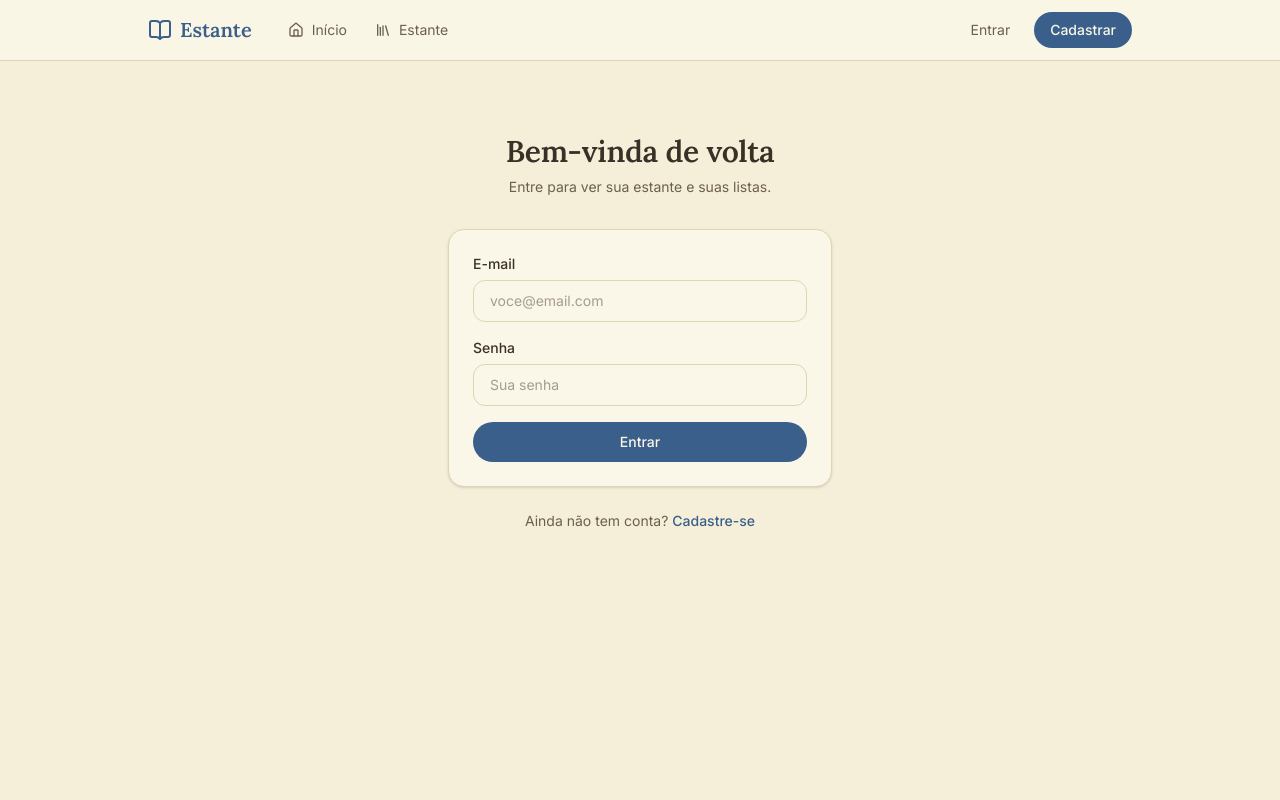
Test case: cadastro › é acessível pelo link da tela de login
Step 1. Click the link "Cadastre-se" → point(714, 520), box [672,512,755,529]
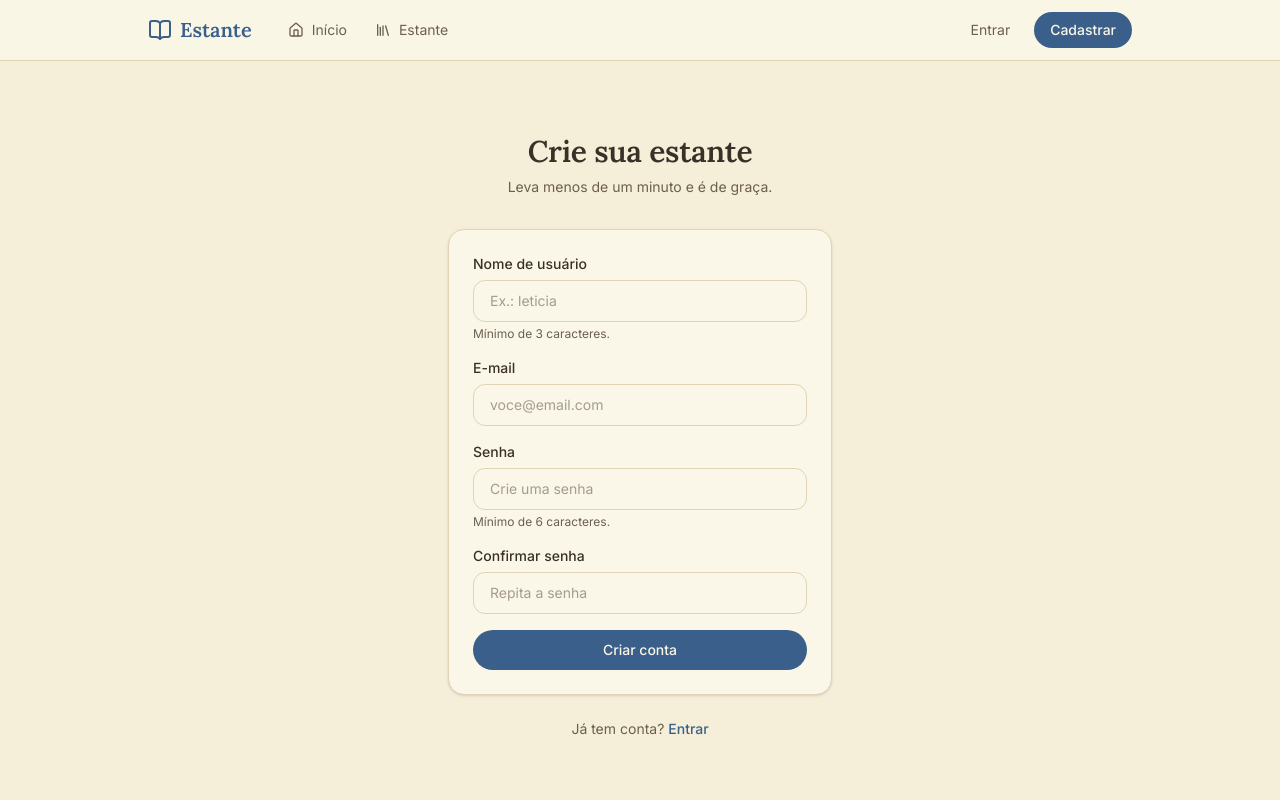
Result: the heading "Crie sua estante" is shown at [528,132,752,170]
